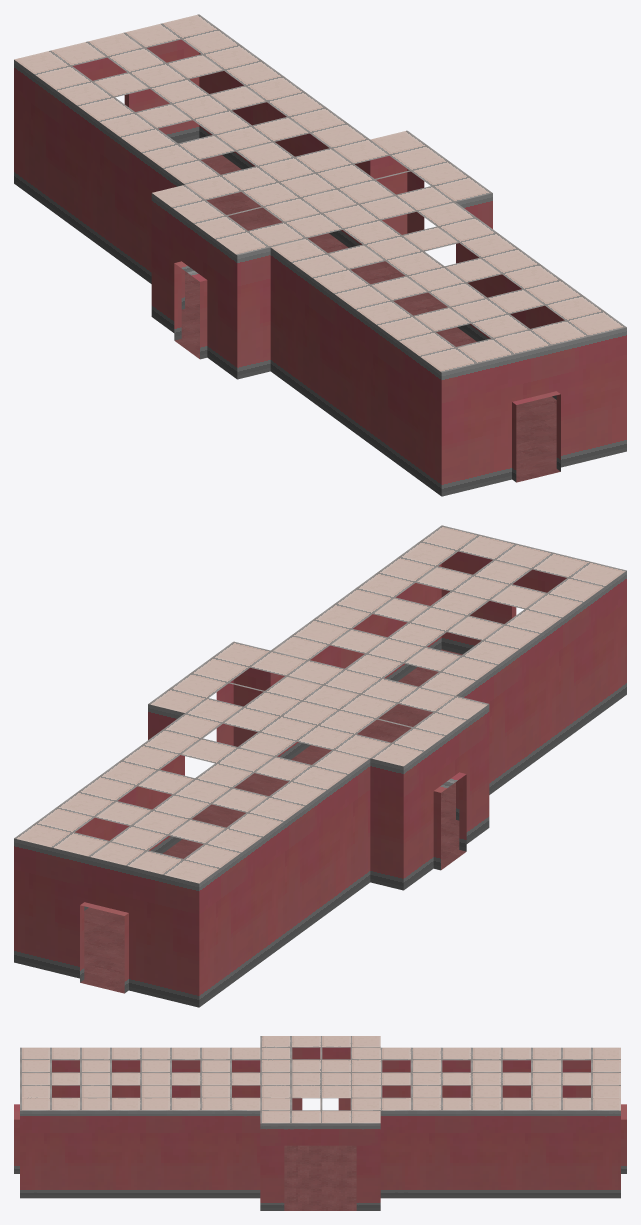
File: DeathFloor_cutscene_endArea.fbx
3 views of the same model, one above another, from view 1: azimuth 30°, elevation 25°; view 2: azimuth 150°, elevation 25°; view 3: azimuth 270°, elevation 25° (orthographic). The views are drawn at different scales.
Visible parts, largest first — view 1: EndCorridor, EndCorridorCeil; view 2: EndCorridor, EndCorridorCeil; view 3: EndCorridor, EndCorridorCeil.
Part boxes in pixels (x1,y1,x2,y2): EndCorridor: (14, 39, 626, 496); EndCorridorCeil: (14, 14, 626, 372); EndCorridor: (14, 551, 626, 1007); EndCorridorCeil: (14, 525, 626, 883); EndCorridor: (14, 1047, 626, 1210); EndCorridorCeil: (20, 1036, 620, 1123).
Size of the model in its own units: 7.1 by 3.2 by 20.4.
